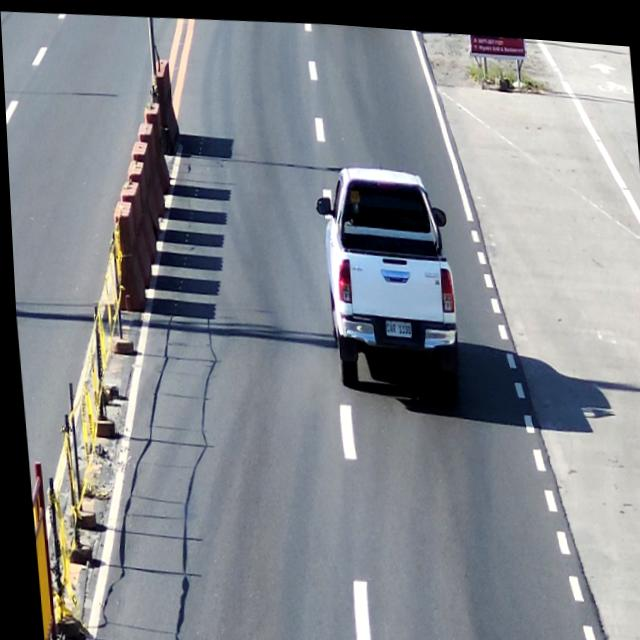Car: (314, 157, 462, 394)
License-Plate: (381, 313, 411, 340)
